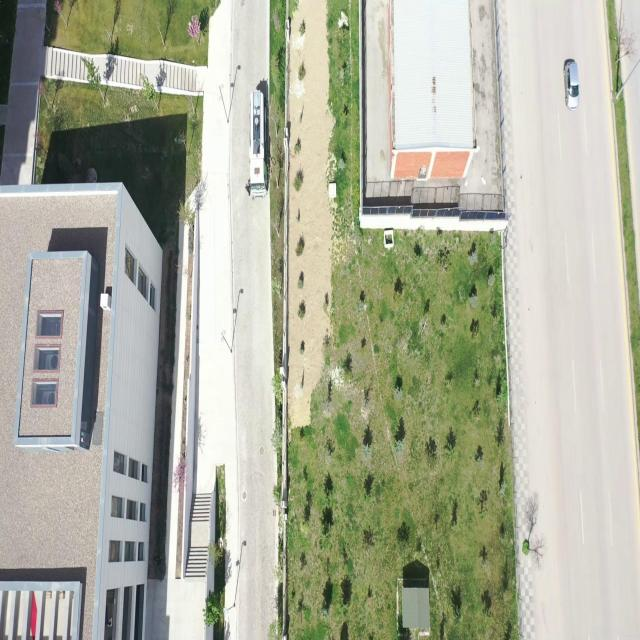p3rson: (245, 182, 251, 196), (106, 616, 112, 628)
